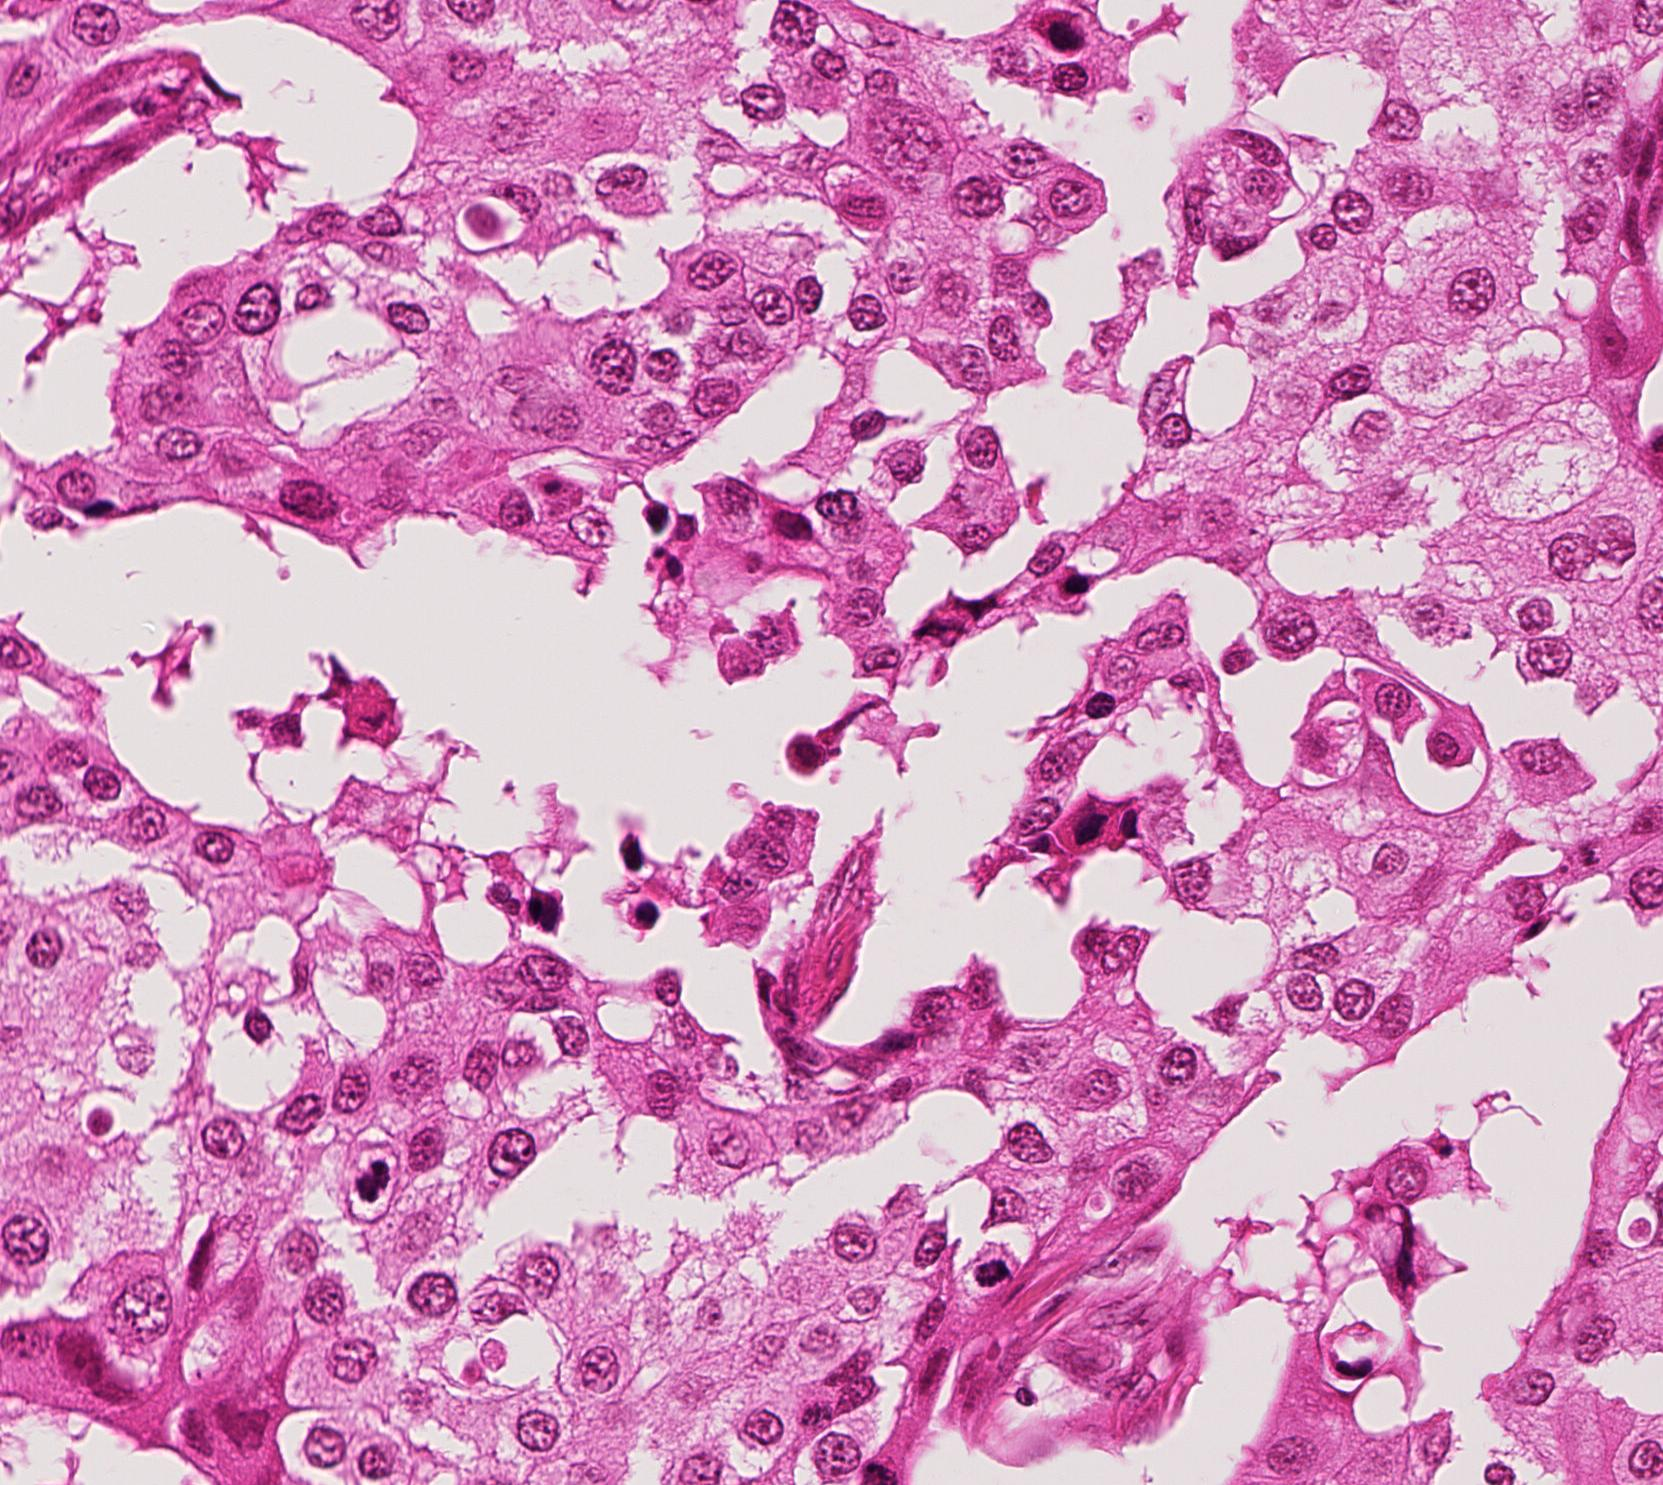mitosis: (346, 1150, 406, 1210), (963, 1241, 1024, 1302)
